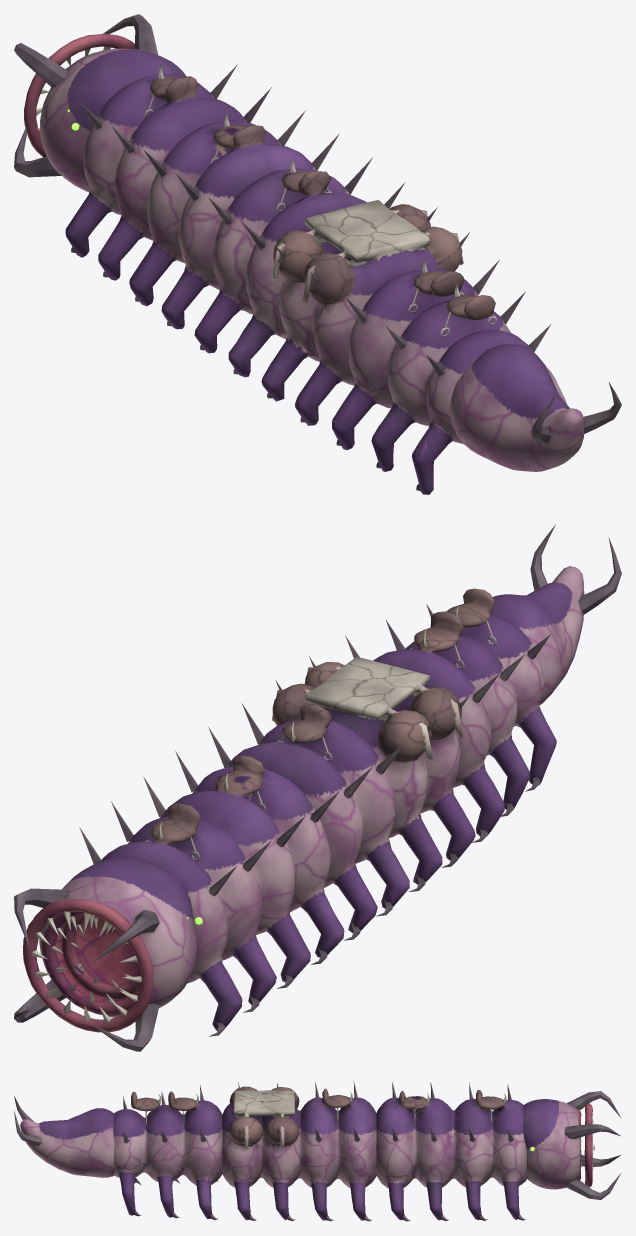
File: bestia_gusano.fbx
The picture shows the model from 3 angles, top to bottom: view 1: azimuth 30°, elevation 25°; view 2: azimuth 150°, elevation 25°; view 3: azimuth 270°, elevation 25°; orthographic projection. The views are drawn at different scales.
Visible parts, largest first — view 1: cuerpo_medio, cuerpo_delantero, cuerpo_trasero, cola, cabeza; view 2: cuerpo_medio, cuerpo_delantero, cabeza, cuerpo_trasero, cola; view 3: cuerpo_medio, cuerpo_delantero, cuerpo_trasero, cabeza, cola.
Boxes of the visible parts, box(x1,y1,x2,y2) form: cuerpo_medio: box(194, 157, 470, 425); cuerpo_delantero: box(65, 63, 339, 329); cuerpo_trasero: box(332, 258, 550, 494); cola: box(450, 344, 621, 471); cabeza: box(14, 14, 186, 192); cuerpo_medio: box(208, 656, 475, 940); cuerpo_delantero: box(79, 751, 344, 1036); cabeza: box(14, 858, 197, 1051); cuerpo_trasero: box(345, 588, 556, 842); cola: box(490, 524, 621, 705); cuerpo_medio: box(222, 1081, 376, 1221); cuerpo_delantero: box(376, 1082, 527, 1221); cuerpo_trasero: box(113, 1085, 222, 1220); cabeza: box(523, 1091, 621, 1199); cola: box(14, 1096, 114, 1177).
Bounding box in the file's own units: 6 × 6.02 × 30.
1 material, 1 textured.
